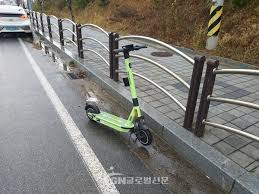kick_board: (85, 44, 152, 145)
kick_handler: (113, 44, 147, 55)
kick_neck: (125, 61, 142, 114)
kick_wheel: (135, 125, 151, 145), (85, 102, 98, 121)
